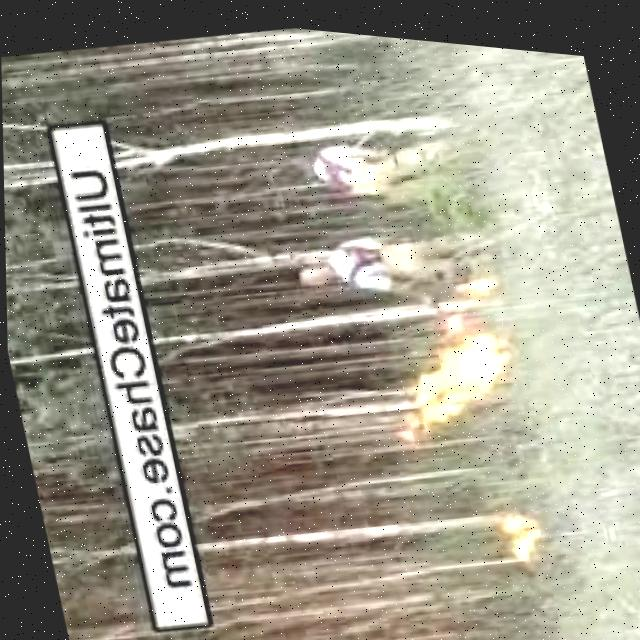Fire: (387, 316, 529, 428), (491, 489, 550, 565), (453, 261, 498, 295), (437, 297, 472, 328)
